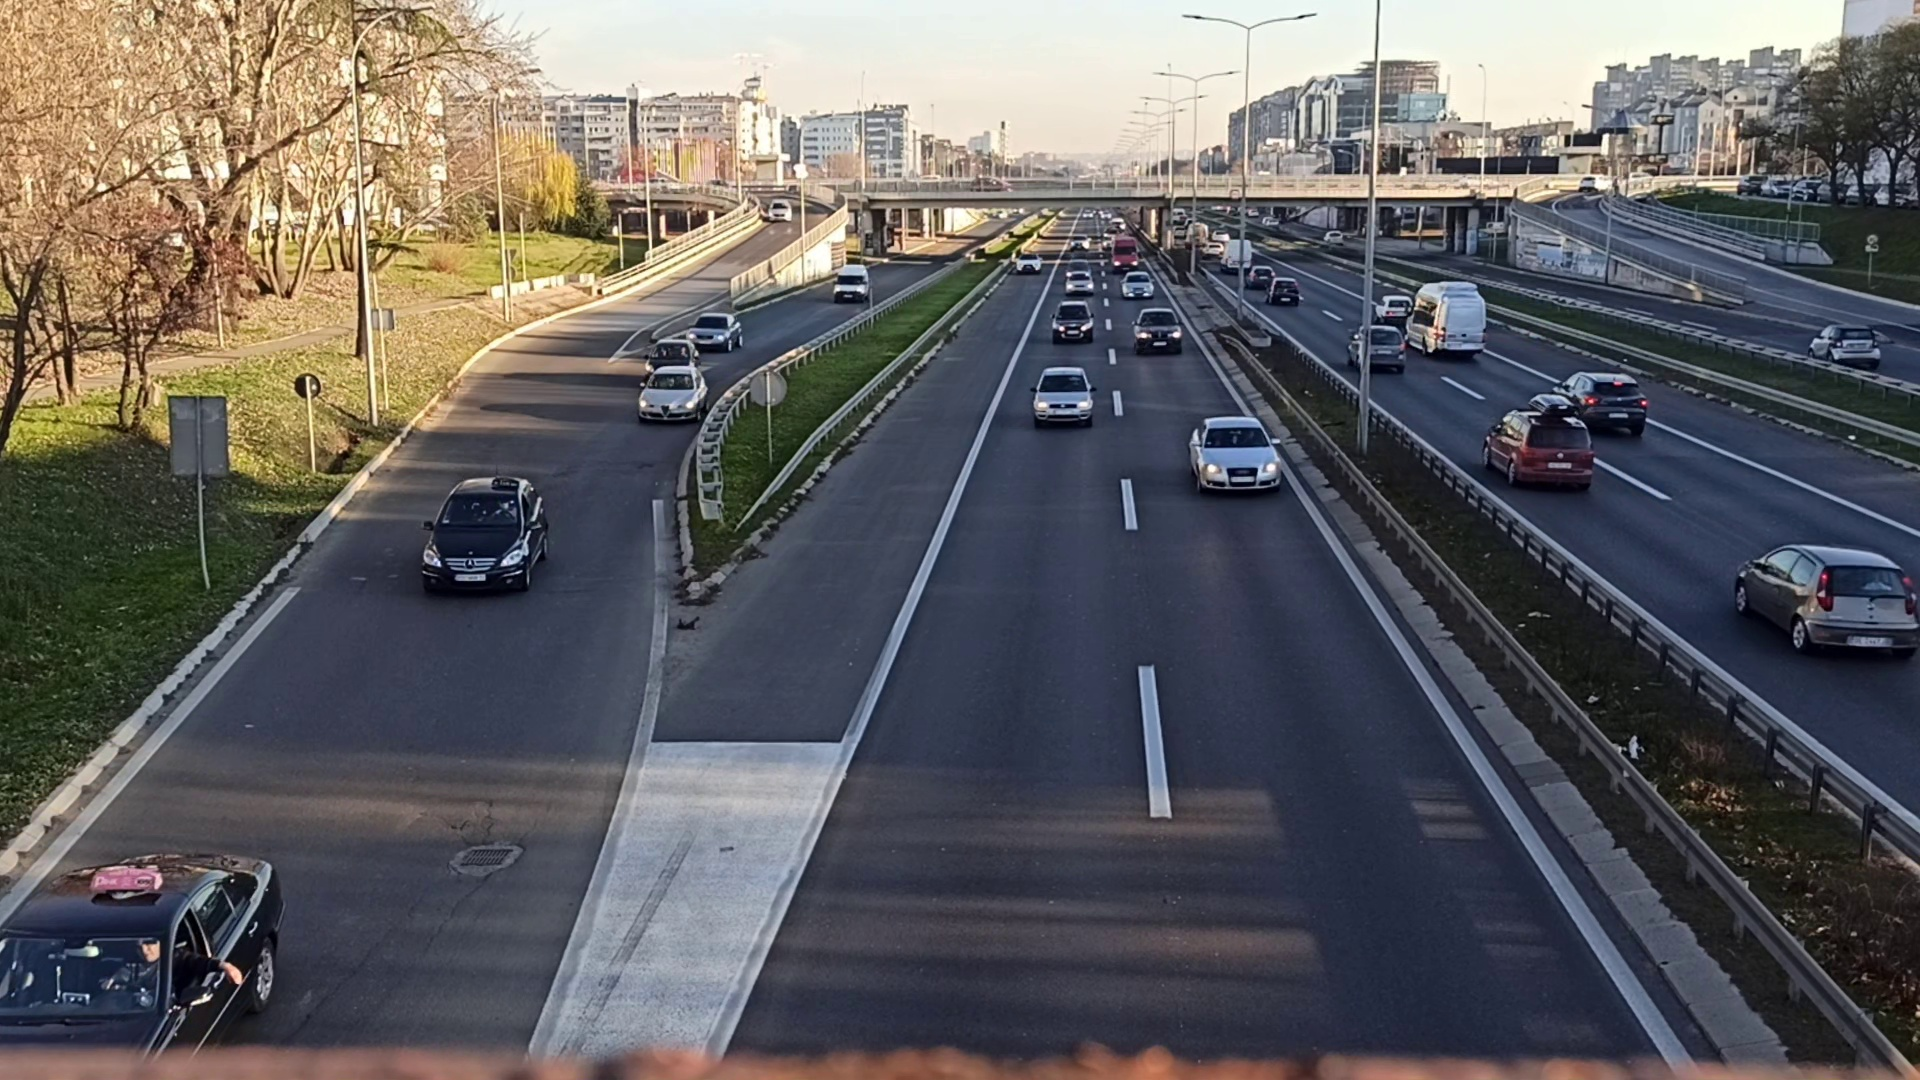car: (1734, 537, 1917, 666), (419, 472, 553, 593), (1480, 401, 1592, 492), (1185, 414, 1280, 495), (1553, 367, 1647, 436), (634, 364, 711, 425), (1033, 363, 1096, 426), (1346, 324, 1408, 375), (1131, 309, 1185, 353), (1054, 301, 1096, 345), (687, 314, 736, 348), (833, 264, 870, 301), (1120, 273, 1154, 299), (1270, 280, 1299, 307)
